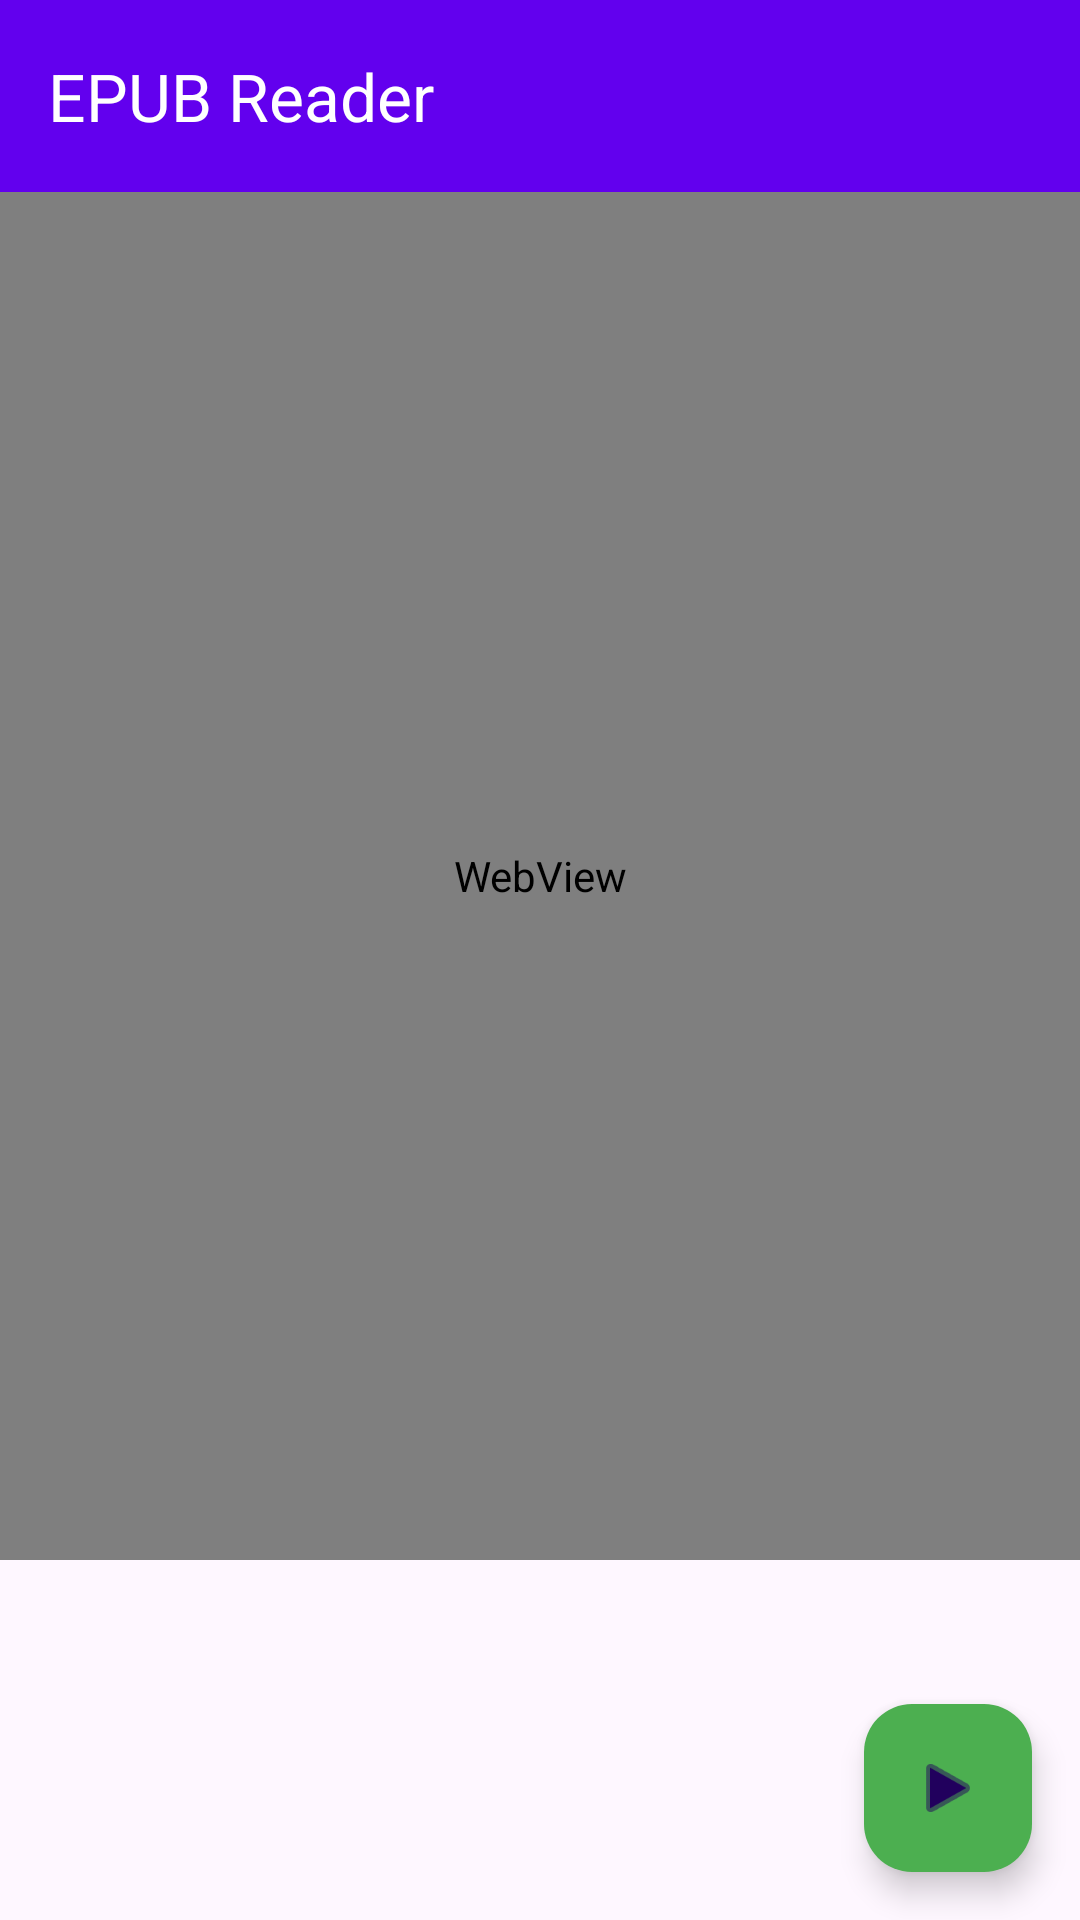

Icon click points for this 1080×1920 phone screenshot, format point (x, y):
play: point (948, 1788)
